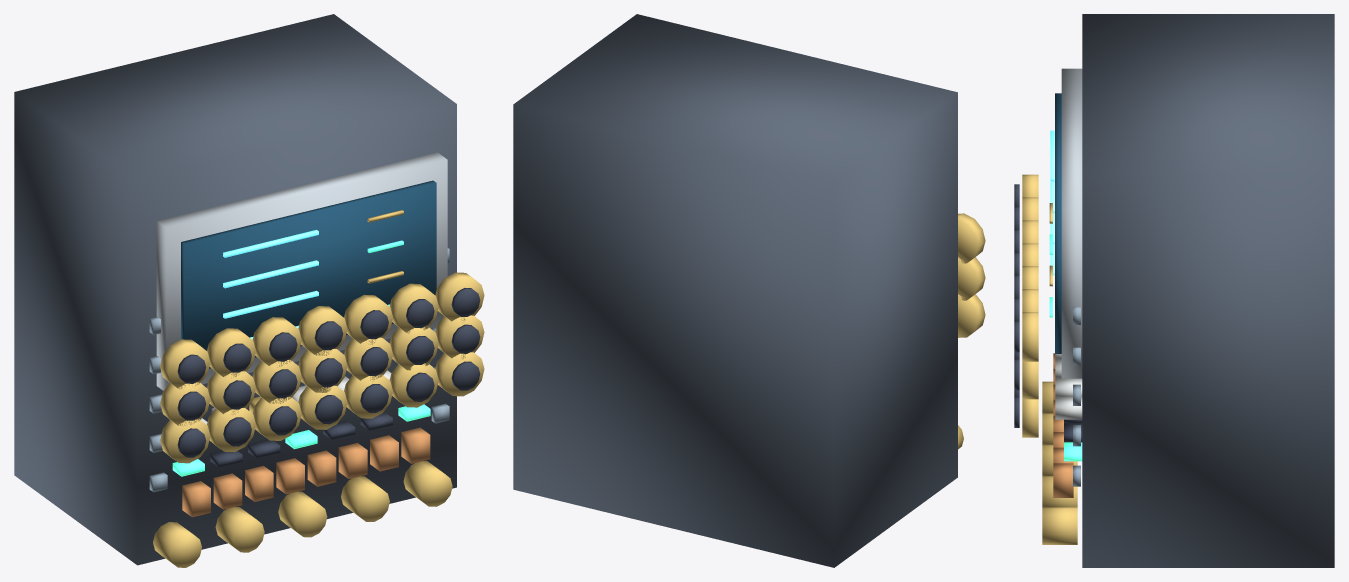
Rendered from 75_L86_RadiatorServiceSequencingPLC.glb.
3 views of the same model, side by side, from view 1: azimuth 30°, elevation 25°; view 2: azimuth 150°, elevation 25°; view 3: azimuth 270°, elevation 25° (orthographic). The views are drawn at different scales.
Visible parts, largest first — view 1: L86_RadiatorServiceSequencing_Part_0000, L86_RadiatorServiceSequencing_Part_0002, L86_RadiatorServiceSequencing_Part_0001, L86_RadiatorServiceSequencing_Part_0004, L86_RadiatorServiceSequencing_Part_0009, L86_RadiatorServiceSequencing_Part_0003, L86_RadiatorServiceSequencing_Part_0007, L86_RadiatorServiceSequencing_Part_0008, L86_RadiatorServiceSequencing_Part_0005, L86_RadiatorServiceSequencing_Part_0039, L86_RadiatorServiceSequencing_Part_0045, L86_RadiatorServiceSequencing_Part_0043 (+39 smaller); view 2: L86_RadiatorServiceSequencing_Part_0000, L86_RadiatorServiceSequencing_Part_0039, L86_RadiatorServiceSequencing_Part_0011, L86_RadiatorServiceSequencing_Part_0025; view 3: L86_RadiatorServiceSequencing_Part_0000, L86_RadiatorServiceSequencing_Part_0001, L86_RadiatorServiceSequencing_Part_0004, L86_RadiatorServiceSequencing_Part_0002, L86_RadiatorServiceSequencing_Part_0009, L86_RadiatorServiceSequencing_Part_0006, L86_RadiatorServiceSequencing_Part_0051, L86_RadiatorServiceSequencing_Part_0008, L86_RadiatorServiceSequencing_Part_0023, L86_RadiatorServiceSequencing_Part_0037, L86_RadiatorServiceSequencing_Part_0003, L86_RadiatorServiceSequencing_Part_0005 (+3 smaller).
Boxes of the visible parts, box(x1,y1,x2,y2) form: L86_RadiatorServiceSequencing_Part_0000: box(14, 14, 456, 565); L86_RadiatorServiceSequencing_Part_0002: box(181, 180, 436, 368); L86_RadiatorServiceSequencing_Part_0001: box(156, 152, 447, 390); L86_RadiatorServiceSequencing_Part_0004: box(153, 210, 452, 567); L86_RadiatorServiceSequencing_Part_0009: box(182, 427, 430, 517); L86_RadiatorServiceSequencing_Part_0003: box(223, 230, 318, 339); L86_RadiatorServiceSequencing_Part_0007: box(210, 412, 392, 467); L86_RadiatorServiceSequencing_Part_0008: box(149, 248, 449, 492); L86_RadiatorServiceSequencing_Part_0005: box(172, 240, 430, 476); L86_RadiatorServiceSequencing_Part_0039: box(160, 339, 210, 389); L86_RadiatorServiceSequencing_Part_0045: box(298, 306, 347, 355); L86_RadiatorServiceSequencing_Part_0043: box(252, 317, 301, 367); L86_RadiatorServiceSequencing_Part_0000: box(513, 14, 957, 567); L86_RadiatorServiceSequencing_Part_0039: box(958, 213, 985, 263); L86_RadiatorServiceSequencing_Part_0011: box(958, 294, 985, 337); L86_RadiatorServiceSequencing_Part_0025: box(958, 257, 985, 300); L86_RadiatorServiceSequencing_Part_0000: box(1082, 14, 1334, 567); L86_RadiatorServiceSequencing_Part_0001: box(1061, 68, 1082, 378); L86_RadiatorServiceSequencing_Part_0004: box(1042, 203, 1077, 544); L86_RadiatorServiceSequencing_Part_0002: box(1055, 93, 1061, 353); L86_RadiatorServiceSequencing_Part_0009: box(1053, 353, 1073, 497); L86_RadiatorServiceSequencing_Part_0006: box(1055, 354, 1082, 419); L86_RadiatorServiceSequencing_Part_0051: box(1022, 312, 1038, 361); L86_RadiatorServiceSequencing_Part_0008: box(1073, 307, 1080, 486); L86_RadiatorServiceSequencing_Part_0023: box(1022, 399, 1038, 437); L86_RadiatorServiceSequencing_Part_0037: box(1022, 361, 1038, 399); L86_RadiatorServiceSequencing_Part_0003: box(1050, 130, 1054, 275); L86_RadiatorServiceSequencing_Part_0005: box(1049, 234, 1082, 461).
Bounding box in the file's own units: 0.9792 × 1.12 × 0.8284.
